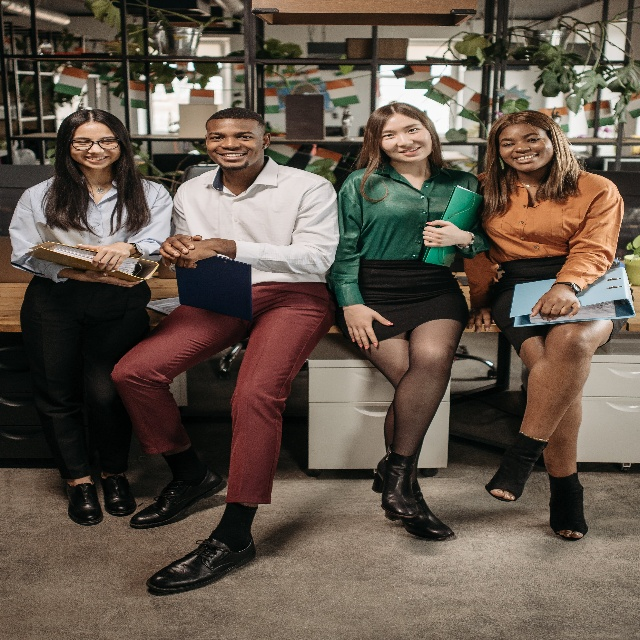Gafas: (69, 137, 121, 152)
Sin_guantes: (343, 304, 393, 351), (76, 237, 130, 276), (529, 282, 581, 322), (164, 239, 218, 270), (158, 230, 201, 261), (85, 268, 143, 289), (422, 218, 460, 247), (466, 306, 496, 335)
